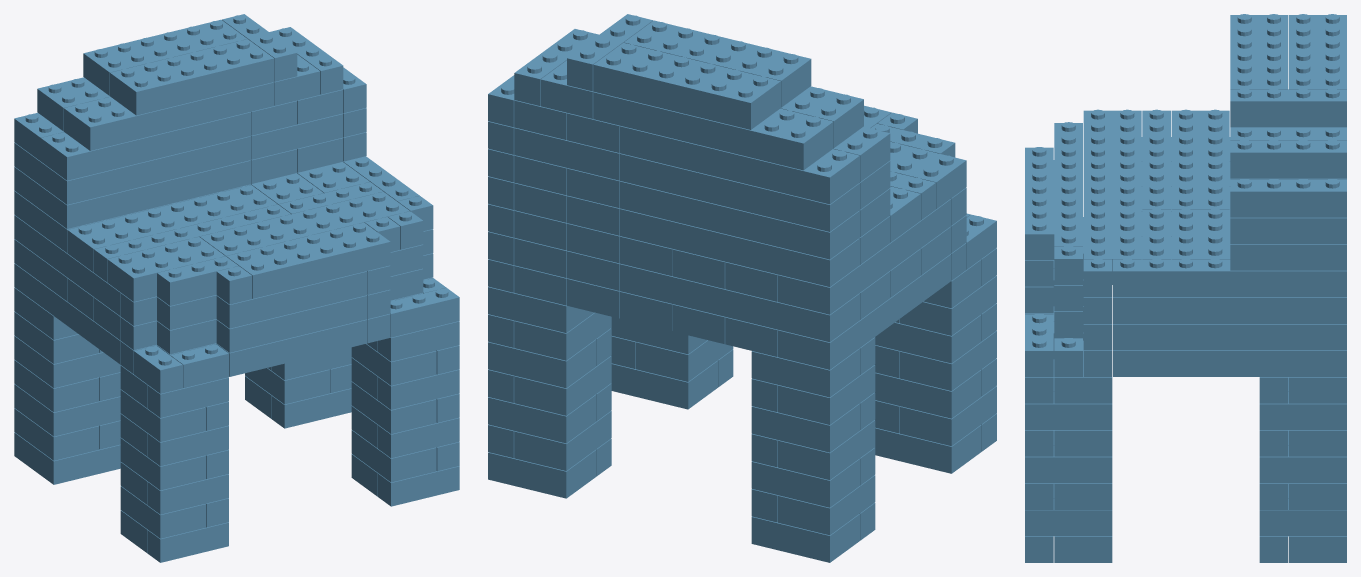
The model's file is 154_chair_L4.glb.
3 renders of one model, left to right at view 1: azimuth 30°, elevation 25°; view 2: azimuth 150°, elevation 25°; view 3: azimuth 270°, elevation 25°, orthographic. The views are drawn at different scales.
Size of the model in its own units: 12.98 by 16.13 by 10.98.
